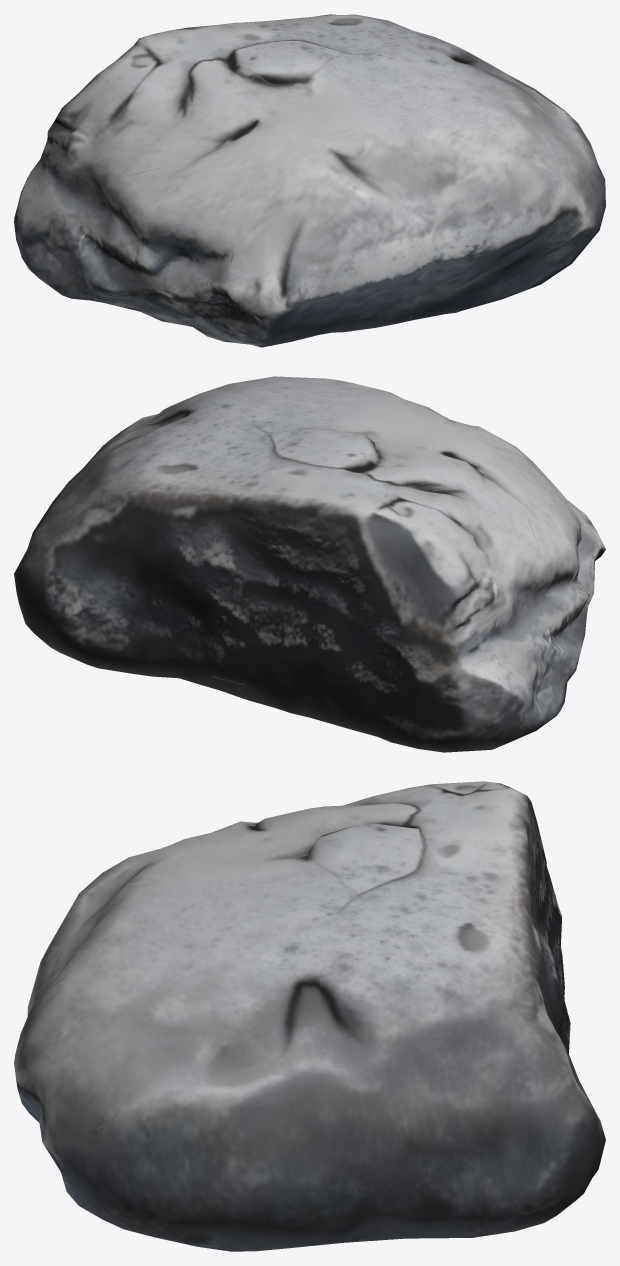
The model's file is rock1.fbx.
3 renders of one model, top to bottom at view 1: azimuth 30°, elevation 25°; view 2: azimuth 150°, elevation 25°; view 3: azimuth 270°, elevation 25°, orthographic. The views are drawn at different scales.
Parts seen in each view (by area): view 1: rock1; view 2: rock1; view 3: rock1.
Part boxes in pixels (x1,y1,x2,y2): rock1: (14, 14, 605, 347); rock1: (14, 376, 605, 752); rock1: (14, 781, 605, 1251).
Size of the model in its own units: 1163 by 500 by 906.
